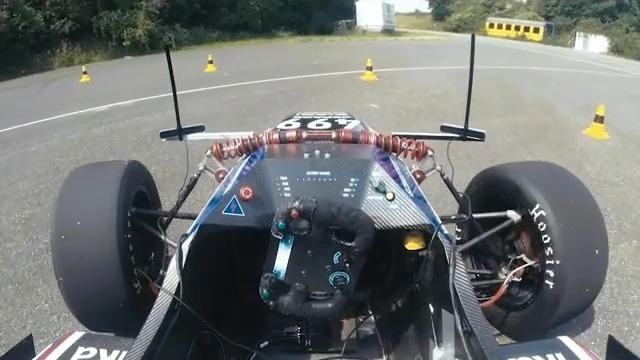yellow_cone: (581, 105, 611, 139), (359, 58, 379, 81), (204, 54, 217, 72), (80, 66, 92, 83)
